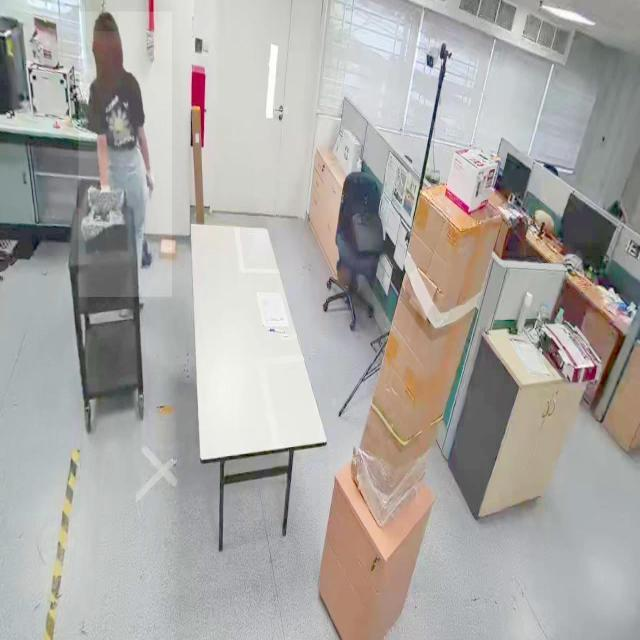head_nohelmet: (92, 12, 118, 32)
person: (78, 11, 172, 298)
